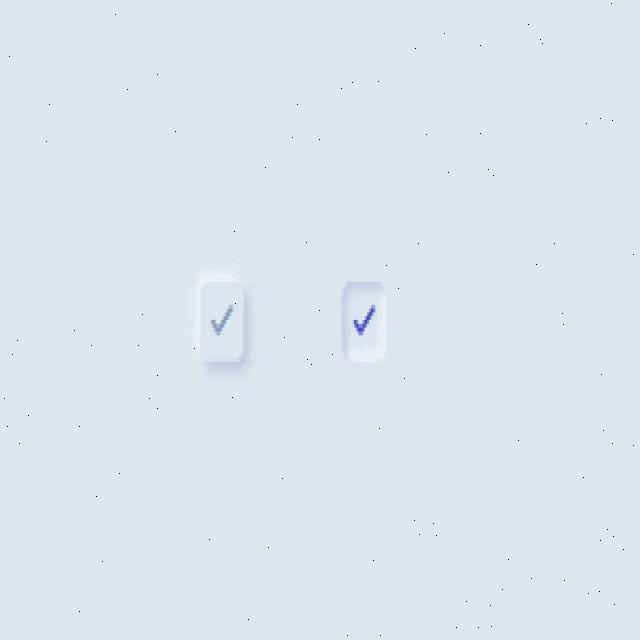checkbox: (197, 280, 246, 366), (342, 281, 390, 366)
